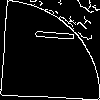I: (25, 25, 74, 44)
